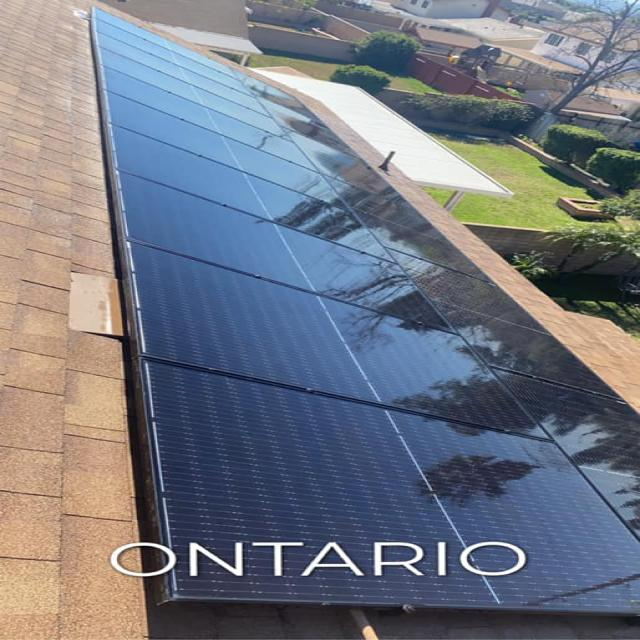clean-solar-panel: (93, 10, 635, 614)
